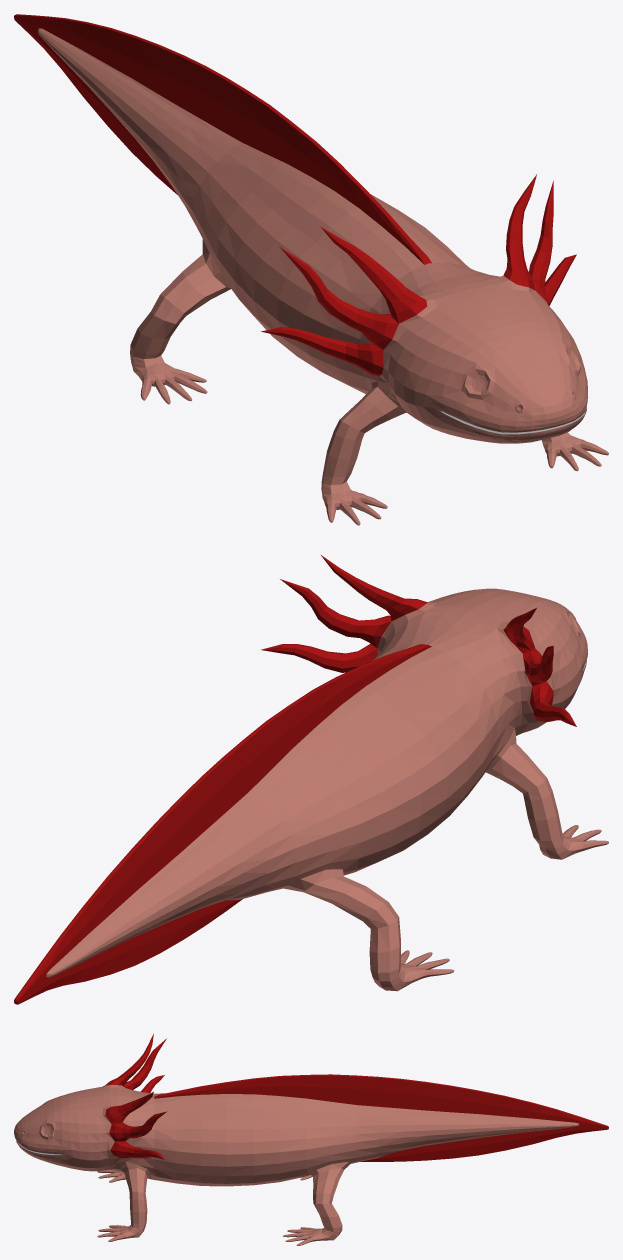
Rendered from axolotl_axolotl.obj.
The picture shows the model from 3 angles, top to bottom: view 1: azimuth 30°, elevation 25°; view 2: azimuth 150°, elevation 25°; view 3: azimuth 270°, elevation 25°; orthographic projection. The views are drawn at different scales.
Bounding box in the file's own units: 0.0823 × 0.0644 × 0.243.
